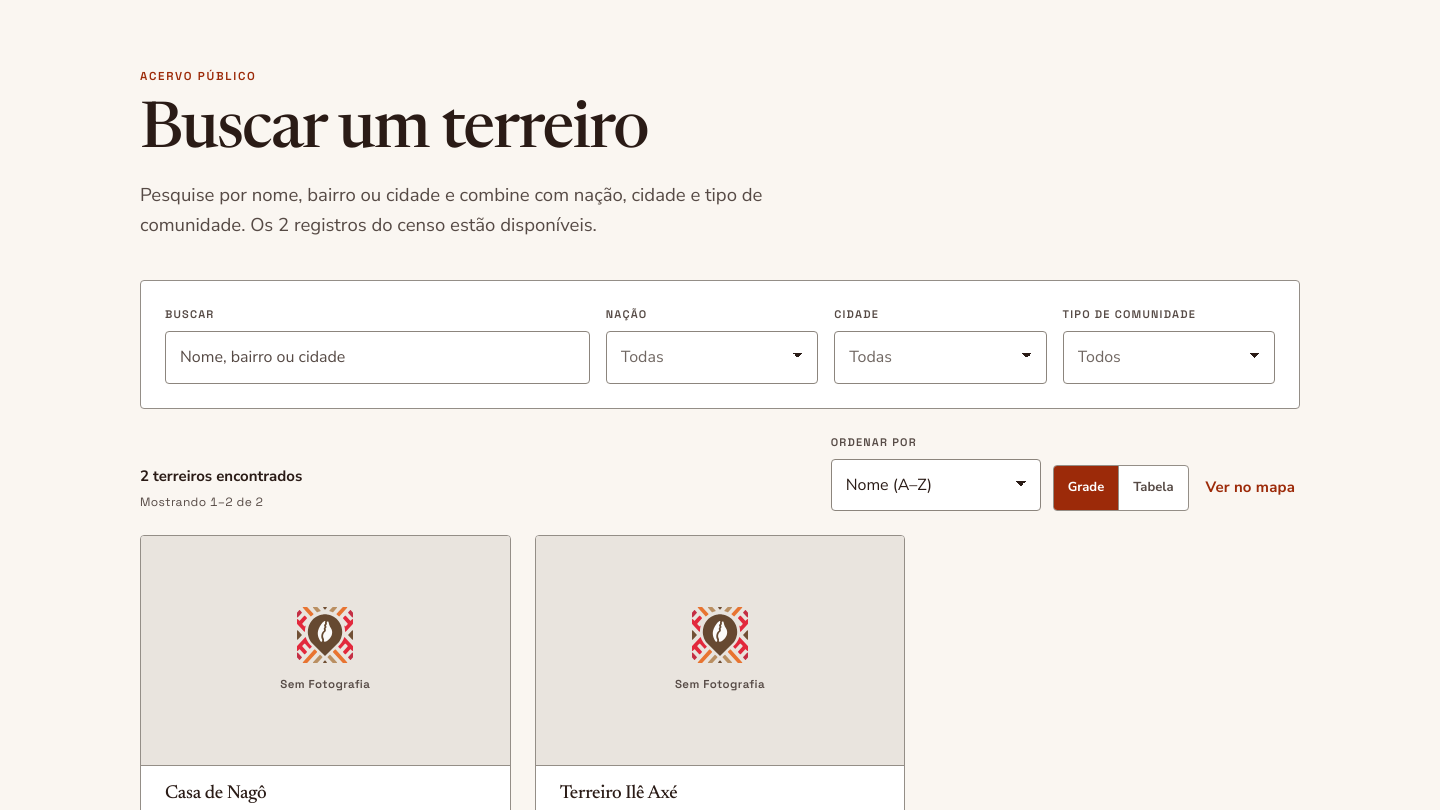
Scenario: Fluxo de busca › exibe estado vazio quando nenhum terreiro corresponde ao filtro
Expected: the text "2 terreiros encontrados" is shown, [140, 464, 302, 489]
Type "inexistente" into the field labelled "Buscar" at (377, 357), box [165, 331, 590, 384]
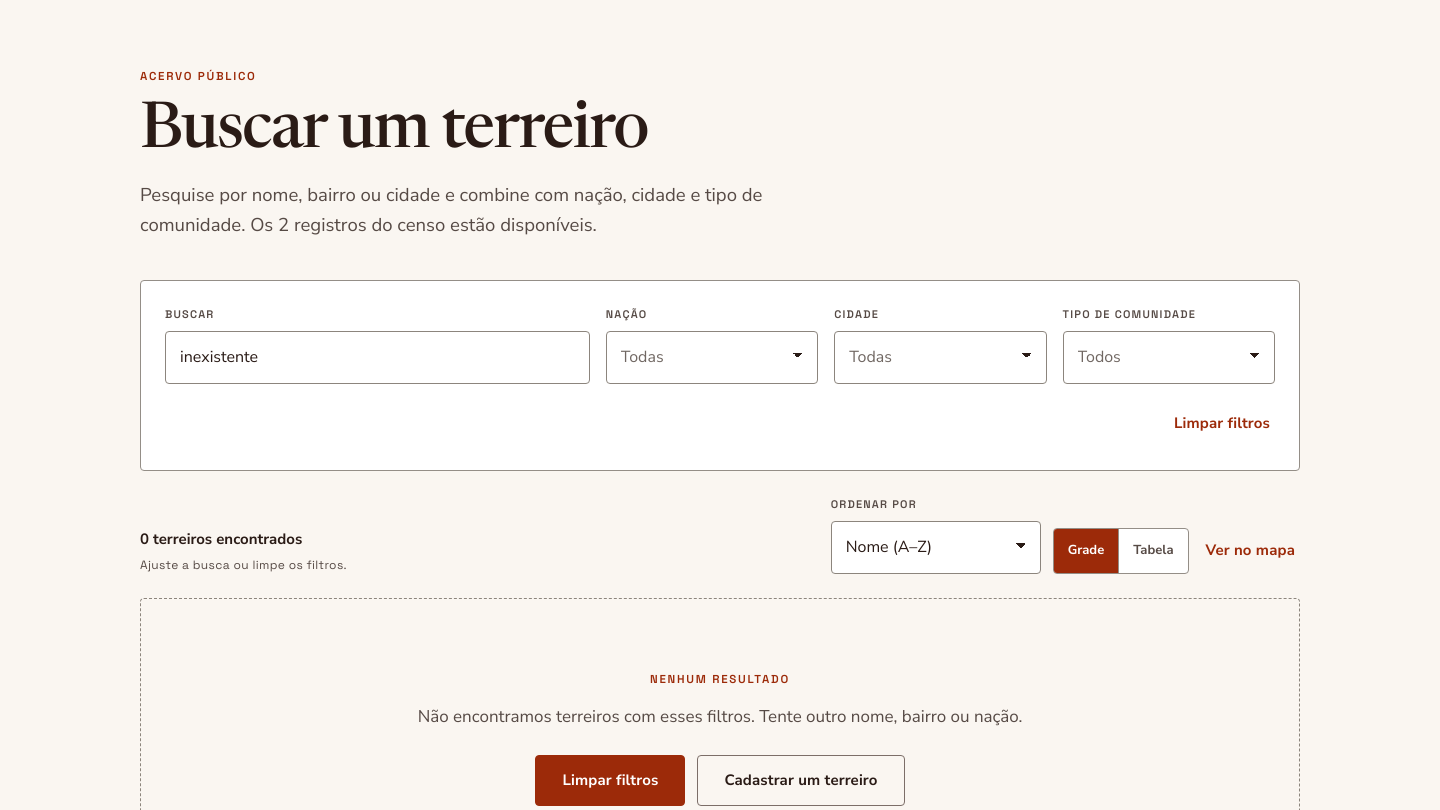
Expected: the text "Nenhum resultado" is shown, [650, 672, 790, 686]
Expected: the text "0 terreiros encontrados" is shown, [140, 529, 302, 549]
